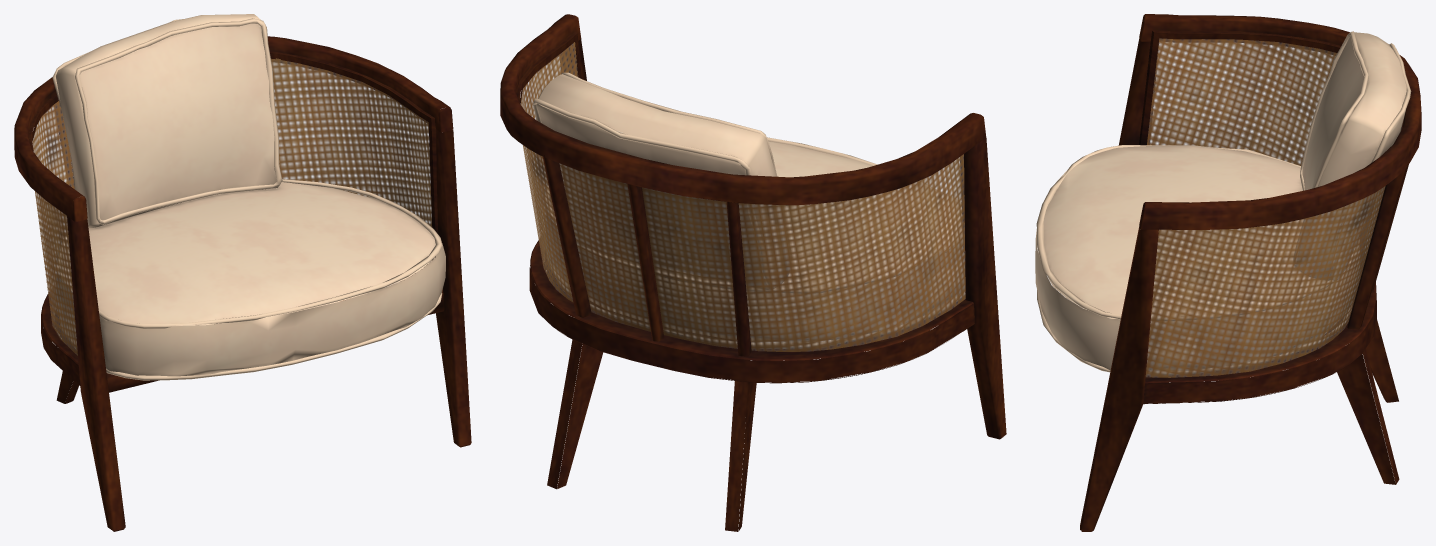
File: armchair.glb
3 renders of one model, left to right at view 1: azimuth 30°, elevation 25°; view 2: azimuth 150°, elevation 25°; view 3: azimuth 270°, elevation 25°, orthographic. The views are drawn at different scales.
Parts seen in each view (by area): view 1: Object_2; view 2: Object_2; view 3: Object_2.
Part boxes in pixels (x1=…): Object_2: x1=14, y1=14, x2=471, y2=531; Object_2: x1=500, y1=14, x2=1006, y2=531; Object_2: x1=1035, y1=14, x2=1421, y2=531.
Bounding box in the file's own units: 73.13 × 65.72 × 61.31.
1 material, 1 textured.
